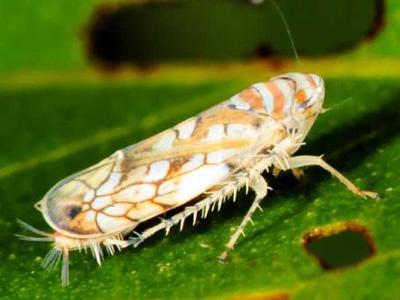Cicadellidae: (34, 71, 325, 255)
